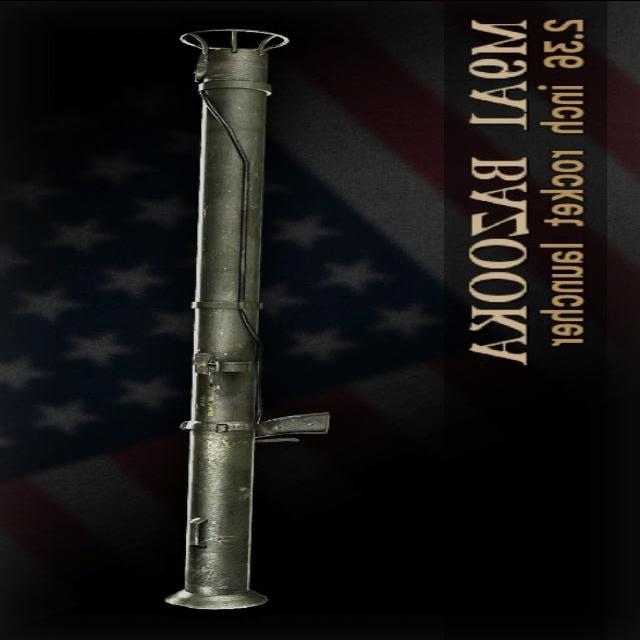rocket launcher: (162, 21, 353, 615)
